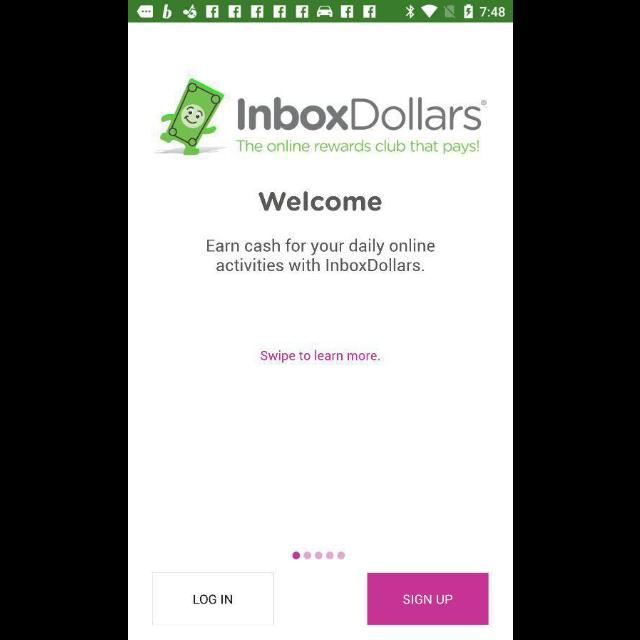image: (152, 76, 486, 156)
pageindicator: (292, 550, 346, 560)
text: (207, 238, 436, 272), (258, 191, 382, 213), (260, 350, 380, 364)
textbutton: (152, 572, 274, 626), (366, 573, 488, 625)
uppertaskbar: (128, 1, 512, 23)
